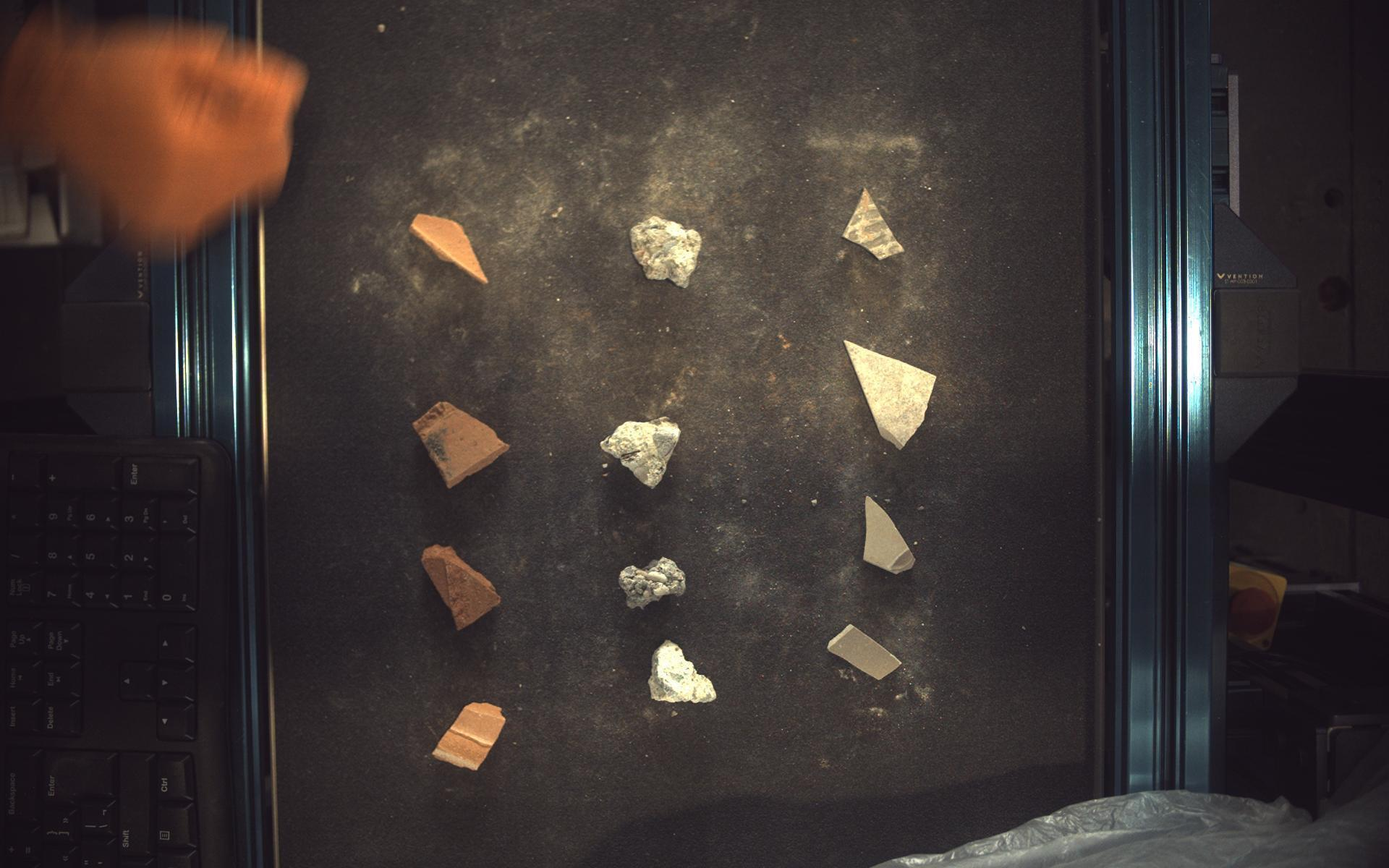brick: (412, 401, 509, 488), (421, 545, 501, 631), (410, 213, 488, 283), (433, 704, 506, 773)
concrete: (601, 417, 681, 488), (632, 215, 702, 287), (649, 642, 718, 705), (620, 558, 687, 609)
tile: (846, 341, 938, 449), (844, 187, 905, 259), (829, 625, 903, 681), (865, 497, 917, 574)
